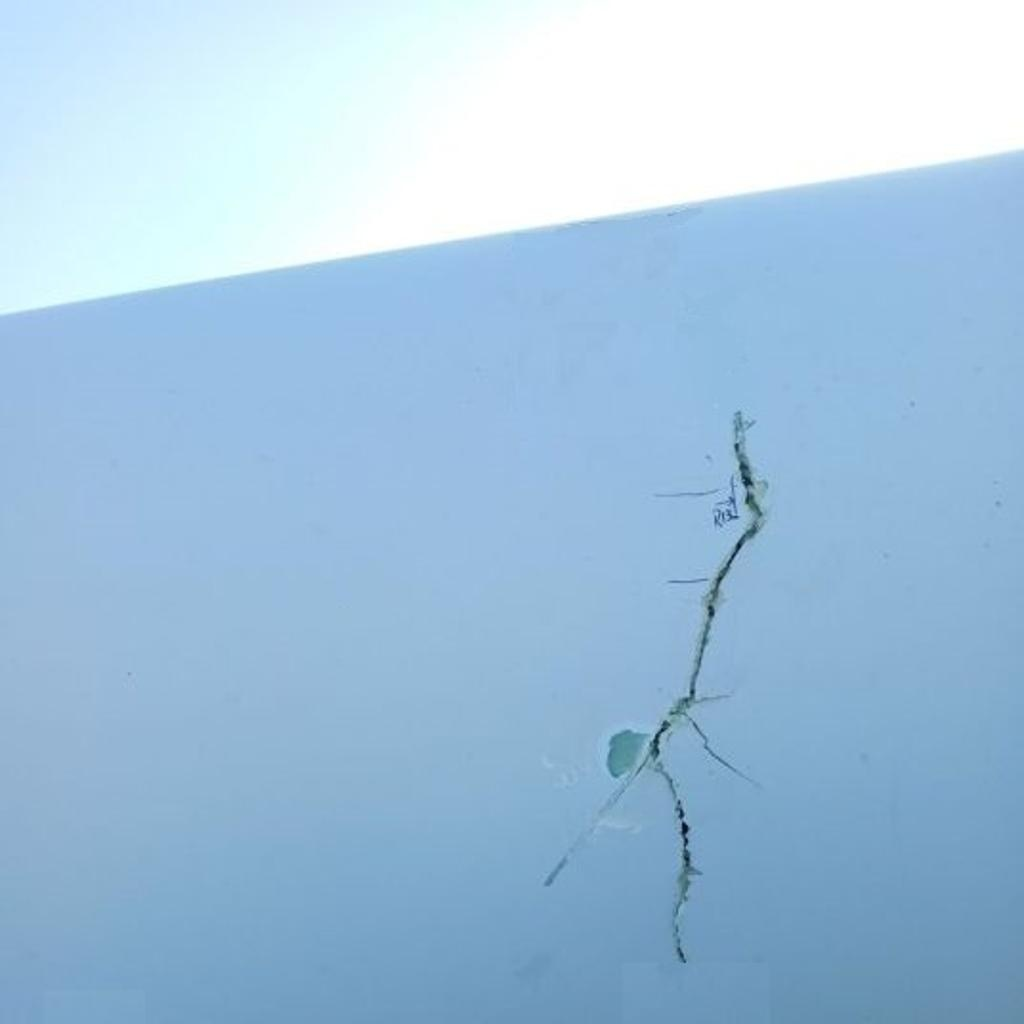hide_craze: (548, 411, 767, 963)
